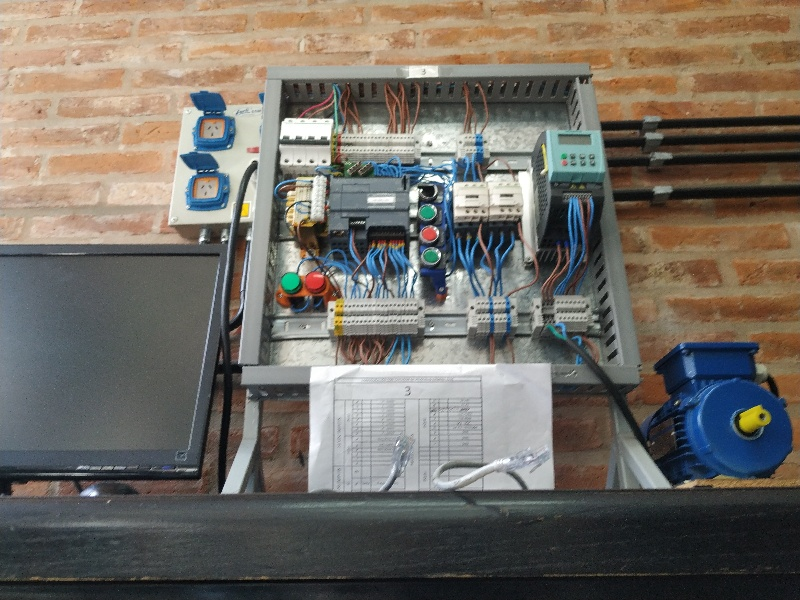Tablero 3: (250, 59, 637, 382)
